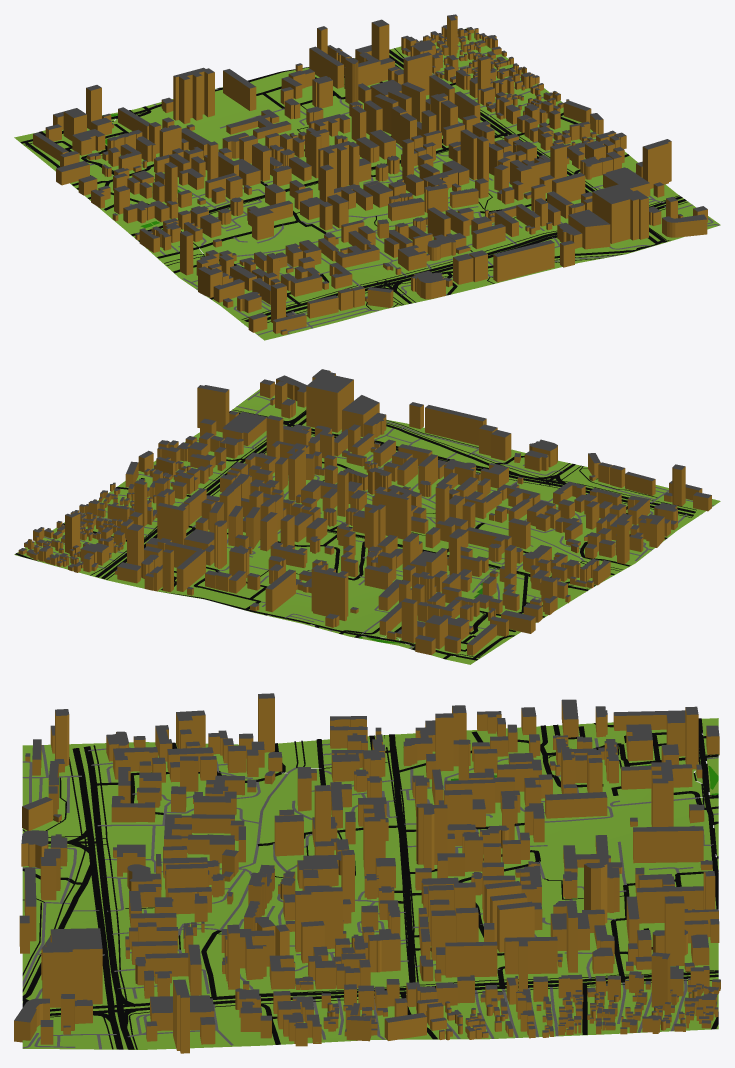
File: tile_03_04.glb
3 views of the same model, one above another, from view 1: azimuth 30°, elevation 25°; view 2: azimuth 150°, elevation 25°; view 3: azimuth 270°, elevation 25° (orthographic). The views are drawn at different scales.
Visible parts, largest first — view 1: Ub_small.osm_buildings_03_04, Terrain_03_04, Ub_small.osm_roads_service_03_04, Ub_small.osm_roads_residential_03_04, Ub_small.osm_paths_footway_03_04, Ub_small.osm_roads_trunk_03_04, Ub_small.osm_roads_secondary_03_04; view 2: Ub_small.osm_buildings_03_04, Terrain_03_04, Ub_small.osm_roads_service_03_04, Ub_small.osm_roads_residential_03_04, Ub_small.osm_paths_footway_03_04, Ub_small.osm_roads_secondary_03_04, Ub_small.osm_roads_trunk_03_04; view 3: Ub_small.osm_buildings_03_04, Terrain_03_04, Ub_small.osm_roads_service_03_04, Ub_small.osm_roads_residential_03_04, Ub_small.osm_roads_trunk_03_04, Ub_small.osm_roads_secondary_03_04, Ub_small.osm_paths_footway_03_04.
Part boxes in pixels (bbox=[...]): Ub_small.osm_buildings_03_04: bbox=[33, 14, 707, 334]; Terrain_03_04: bbox=[14, 28, 720, 340]; Ub_small.osm_roads_service_03_04: bbox=[90, 41, 719, 335]; Ub_small.osm_roads_residential_03_04: bbox=[21, 29, 629, 305]; Ub_small.osm_paths_footway_03_04: bbox=[20, 48, 688, 322]; Ub_small.osm_roads_trunk_03_04: bbox=[244, 196, 686, 321]; Ub_small.osm_roads_secondary_03_04: bbox=[131, 49, 667, 274]; Ub_small.osm_buildings_03_04: bbox=[18, 369, 711, 655]; Terrain_03_04: bbox=[14, 389, 720, 664]; Ub_small.osm_roads_service_03_04: bbox=[34, 391, 713, 648]; Ub_small.osm_roads_residential_03_04: bbox=[15, 456, 667, 659]; Ub_small.osm_paths_footway_03_04: bbox=[90, 409, 696, 660]; Ub_small.osm_roads_secondary_03_04: bbox=[95, 411, 588, 590]; Ub_small.osm_roads_trunk_03_04: bbox=[229, 411, 695, 516]; Ub_small.osm_buildings_03_04: bbox=[14, 693, 720, 1053]; Terrain_03_04: bbox=[22, 718, 718, 1049]; Ub_small.osm_roads_service_03_04: bbox=[22, 738, 718, 1049]; Ub_small.osm_roads_residential_03_04: bbox=[22, 718, 718, 1044]; Ub_small.osm_roads_trunk_03_04: bbox=[68, 746, 135, 1049]; Ub_small.osm_roads_secondary_03_04: bbox=[22, 734, 718, 1015]; Ub_small.osm_paths_footway_03_04: bbox=[22, 718, 718, 1049].
Bounding box in the file's own units: 1014 × 127 × 945.
